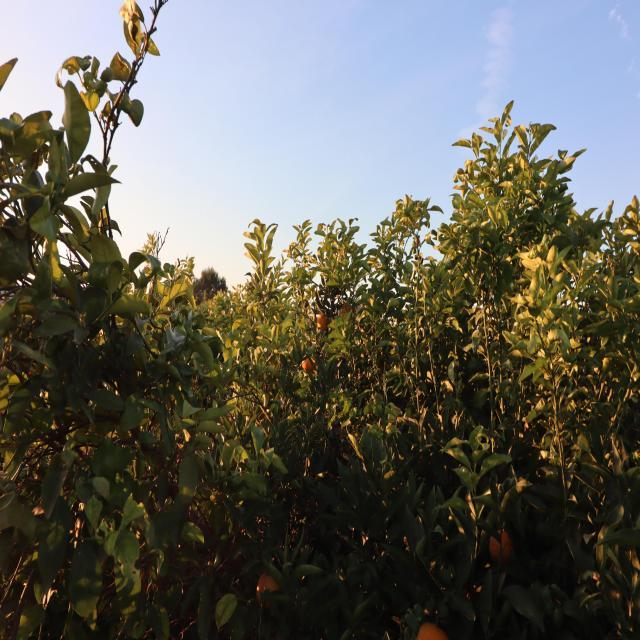Jeruk Sudah Matang: (258, 574, 280, 594), (487, 534, 505, 558), (418, 623, 443, 640), (302, 355, 316, 372), (339, 302, 352, 316), (318, 314, 328, 332)
